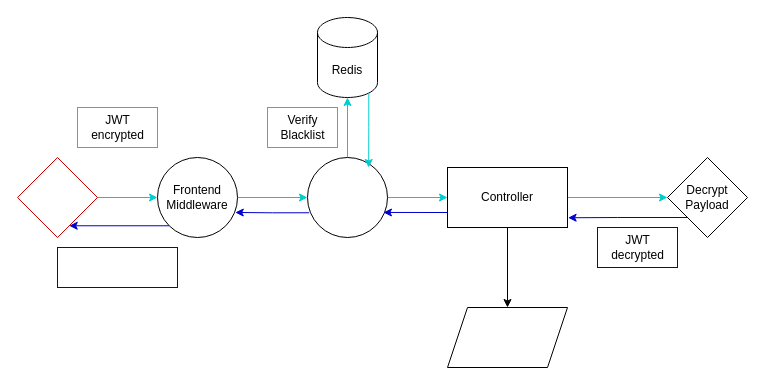
The diagram is 765 pixels wide and 385 high, and some of its shapes have lost their labels. Each missing label, with the centre of its shape:
Backend Middleware: the point at 347,197
Dashboard: the point at 57,197
Optional to send decrypted JWT: the point at 507,337
Shows Decrypted Payload: the point at 117,267
